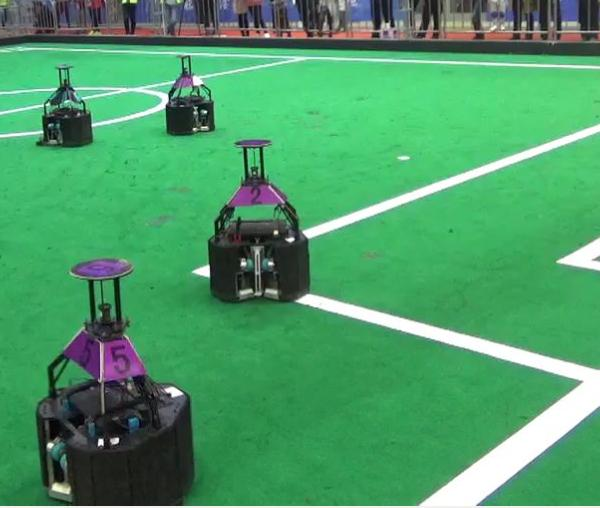robot: (32, 254, 199, 502), (201, 137, 314, 306), (37, 61, 96, 148), (163, 53, 219, 137)
